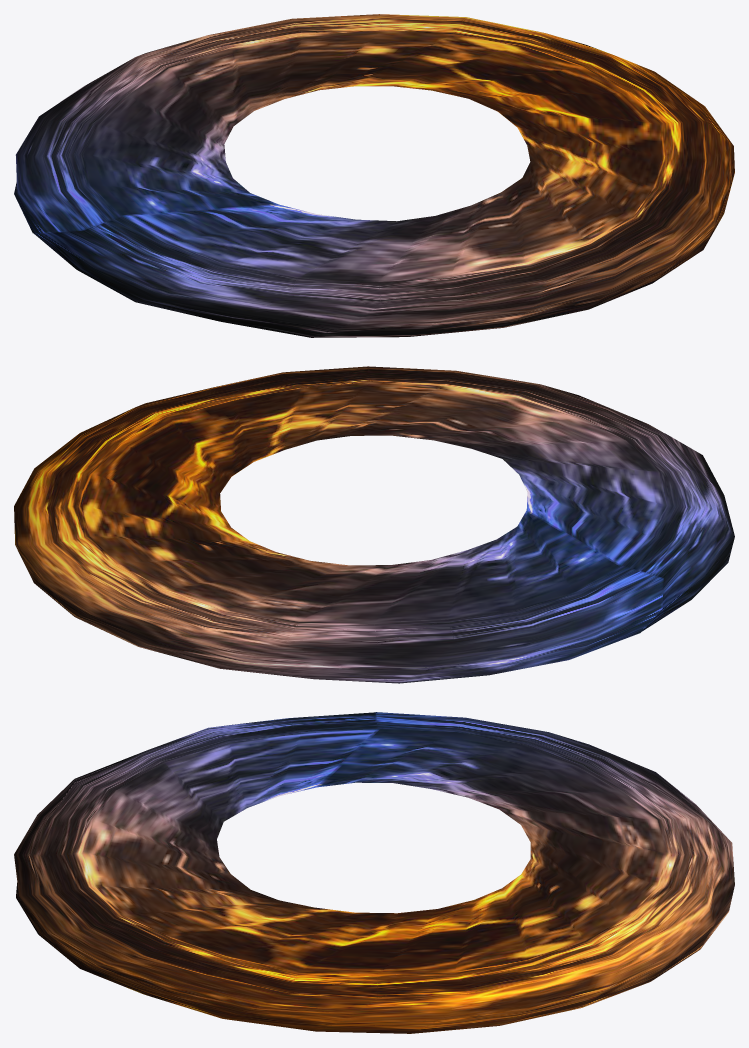
File: jvqi.FBX
3 views of the same model, one above another, from view 1: azimuth 30°, elevation 25°; view 2: azimuth 150°, elevation 25°; view 3: azimuth 270°, elevation 25° (orthographic).
Visible parts, largest first — view 1: jvqi; view 2: jvqi; view 3: jvqi.
Part boxes in pixels (<box>): jvqi: <box>14,14,734,337</box>; jvqi: <box>14,366,734,683</box>; jvqi: <box>14,712,734,1033</box>.
Size of the model in its own units: 195 by 10.09 by 195.
